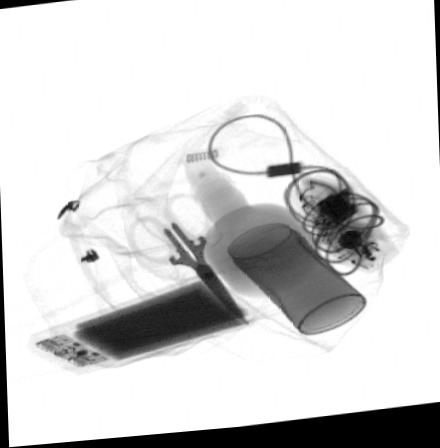Powerbank: (28, 272, 258, 379)
Scissors: (125, 196, 250, 331)
